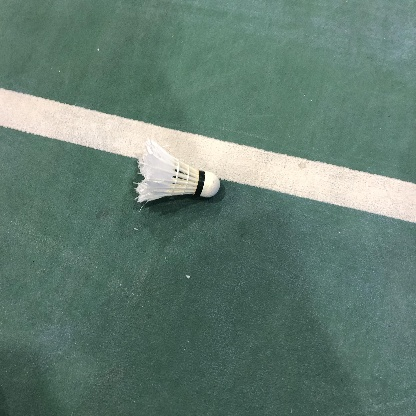ball_single: (136, 139, 220, 202)
